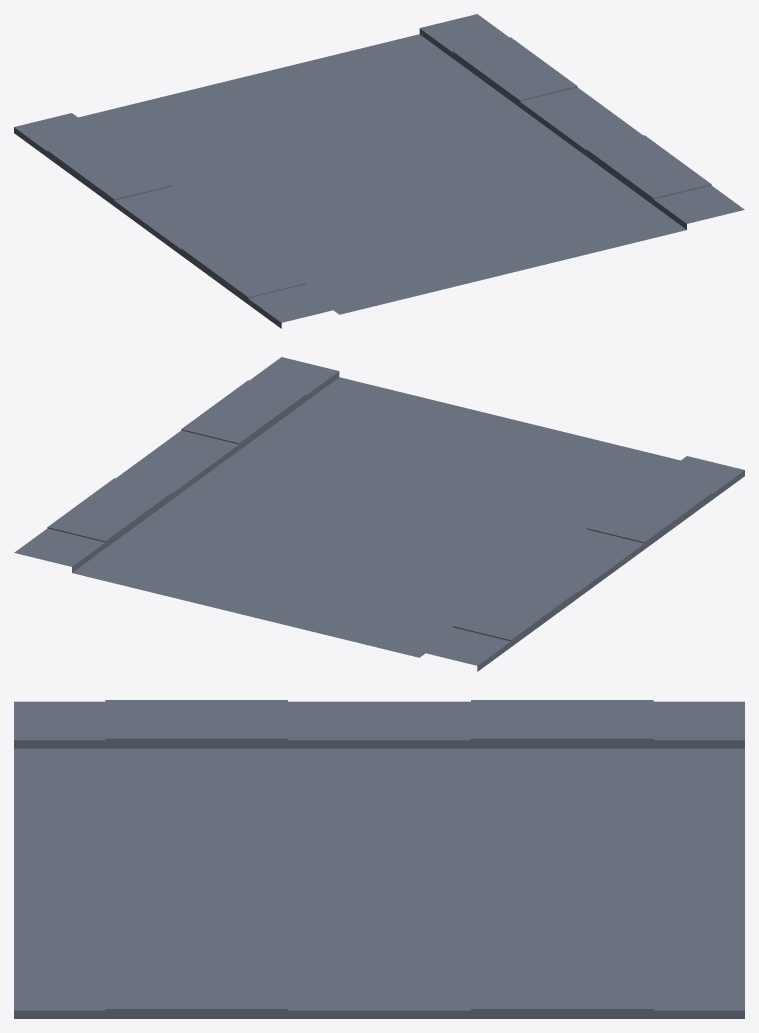
File: env_street_straight_01.glb
The picture shows the model from 3 angles, top to bottom: view 1: azimuth 30°, elevation 25°; view 2: azimuth 150°, elevation 25°; view 3: azimuth 270°, elevation 25°; orthographic projection. The views are drawn at different scales.
Parts seen in each view (by area): view 1: _tmp_env_env_street_straight_01.obj; view 2: _tmp_env_env_street_straight_01.obj; view 3: _tmp_env_env_street_straight_01.obj.
Boxes of the visible parts, box(x1,y1,x2,y2) form: _tmp_env_env_street_straight_01.obj: box(14, 14, 744, 328); _tmp_env_env_street_straight_01.obj: box(14, 357, 744, 671); _tmp_env_env_street_straight_01.obj: box(14, 700, 744, 1018).
Bounding box in the file's own units: 8 × 0.12 × 8.
